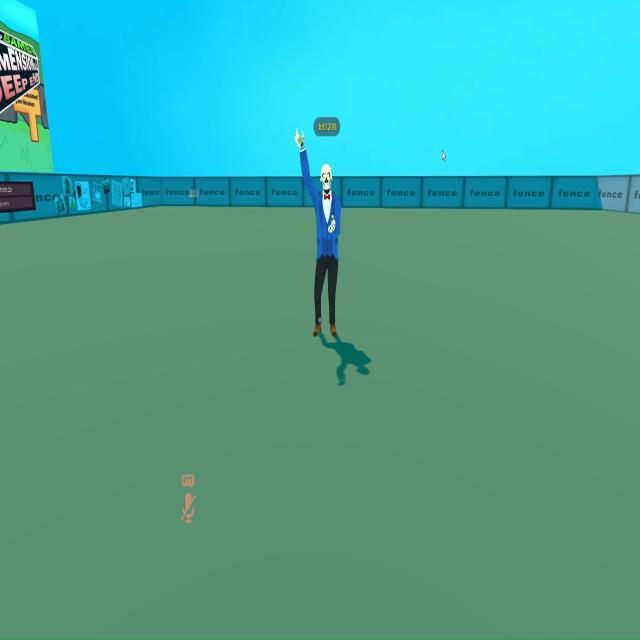human: (289, 120, 354, 349)
